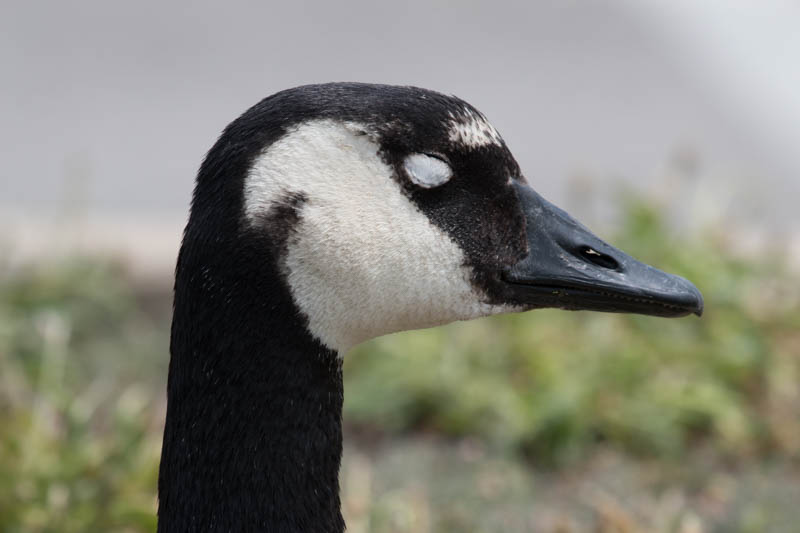goose-head: (167, 80, 705, 358)
